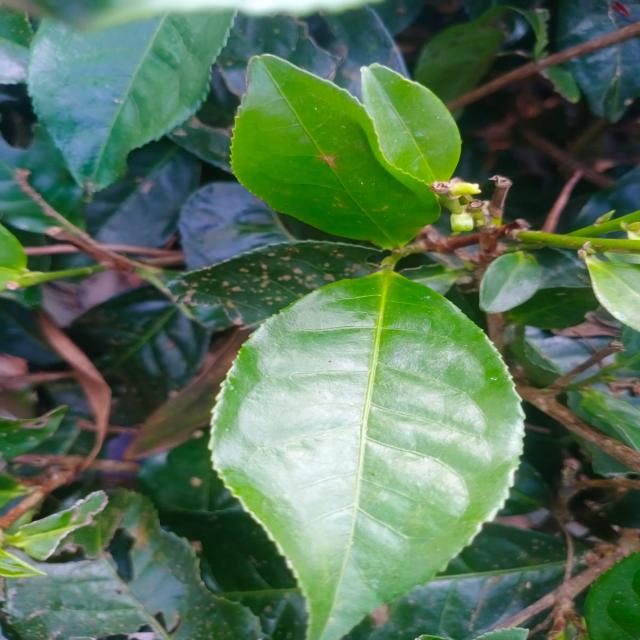Category D(7+ days, Not for Tea): (194, 255, 530, 640)
